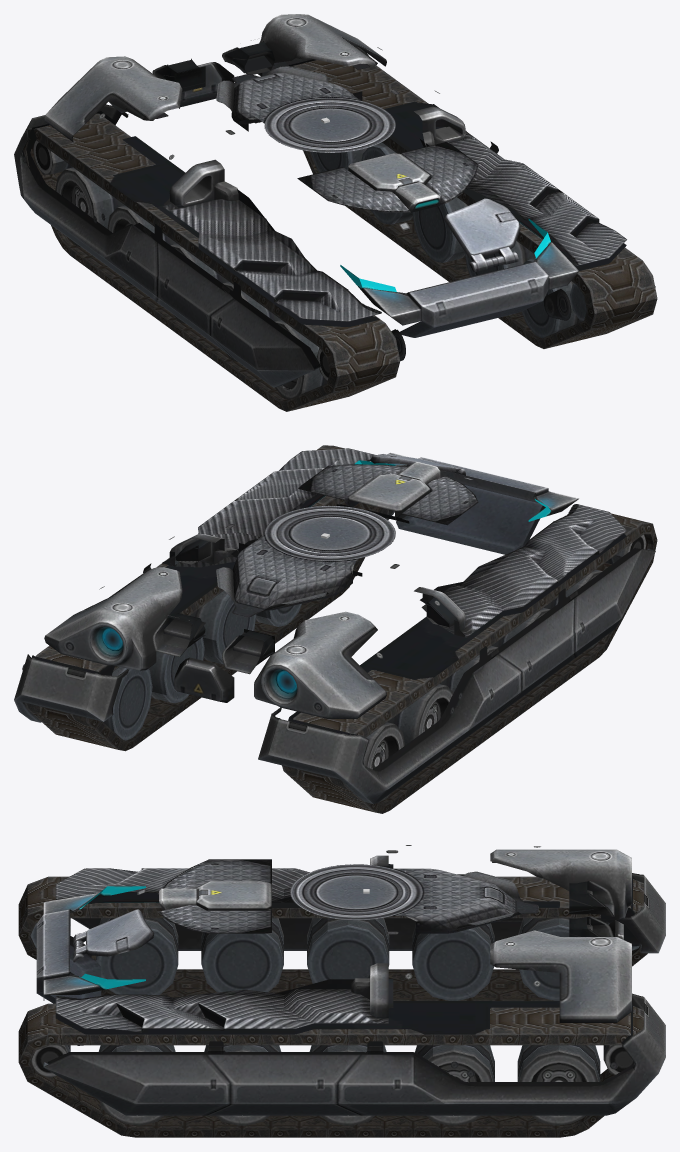
The model's file is Hunter_Standart.fbx.
3 views of the same model, one above another, from view 1: azimuth 30°, elevation 25°; view 2: azimuth 150°, elevation 25°; view 3: azimuth 270°, elevation 25° (orthographic).
Parts seen in each view (by area): view 1: Hull, rTrack, lTrack, lwheel_3, rwheel_5, lwheel_1, rwheel_1, lwheel_5, rwheel_4, lwheel_4, rwheel_b, lwheel_2; view 2: Hull, rTrack, lTrack, lwheel_5, lwheel_3, rwheel_4, lwheel_4, rwheel_5, lwheel_2; view 3: Hull, lTrack, rTrack, rwheel_4, rwheel_2, rwheel_3, rwheel_1, lwheel_5, lwheel_4, rwheel_5, lwheel_1, lwheel_3 (+3 smaller).
Part boxes in pixels (box(x1,y1,x2,y2)): Hull: box(14, 14, 655, 387); rTrack: box(23, 113, 400, 411); lTrack: box(291, 60, 657, 348); lwheel_3: box(412, 197, 468, 262); rwheel_5: box(55, 167, 124, 247); lwheel_1: box(521, 258, 583, 338); rwheel_1: box(275, 320, 326, 399); lwheel_5: box(310, 142, 382, 172); rwheel_4: box(107, 205, 176, 285); lwheel_4: box(361, 143, 413, 224); rwheel_b: box(33, 140, 72, 174); lwheel_2: box(465, 241, 535, 276); Hull: box(14, 448, 655, 803); rTrack: box(282, 513, 657, 813); lTrack: box(25, 445, 381, 751); lwheel_5: box(103, 667, 152, 740); lwheel_3: box(190, 590, 256, 664); rwheel_4: box(387, 684, 453, 763); lwheel_4: box(148, 637, 204, 703); rwheel_5: box(363, 722, 404, 801); lwheel_2: box(255, 603, 301, 626); Hull: box(36, 845, 665, 1115); lTrack: box(18, 1003, 643, 1137); rTrack: box(18, 876, 647, 1000); rwheel_4: box(412, 923, 494, 1000); rwheel_2: box(201, 918, 283, 992); rwheel_3: box(307, 918, 389, 983); rwheel_1: box(96, 918, 178, 994); lwheel_5: box(517, 1045, 600, 1125); lwheel_4: box(415, 1045, 494, 1125); rwheel_5: box(518, 918, 577, 1000); lwheel_1: box(98, 1045, 175, 1125); lwheel_3: box(309, 1045, 386, 1125).
Bounding box in the file's own units: 4.15 × 1.82 × 6.36.
